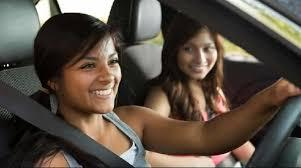Awake: (28, 11, 134, 128)
